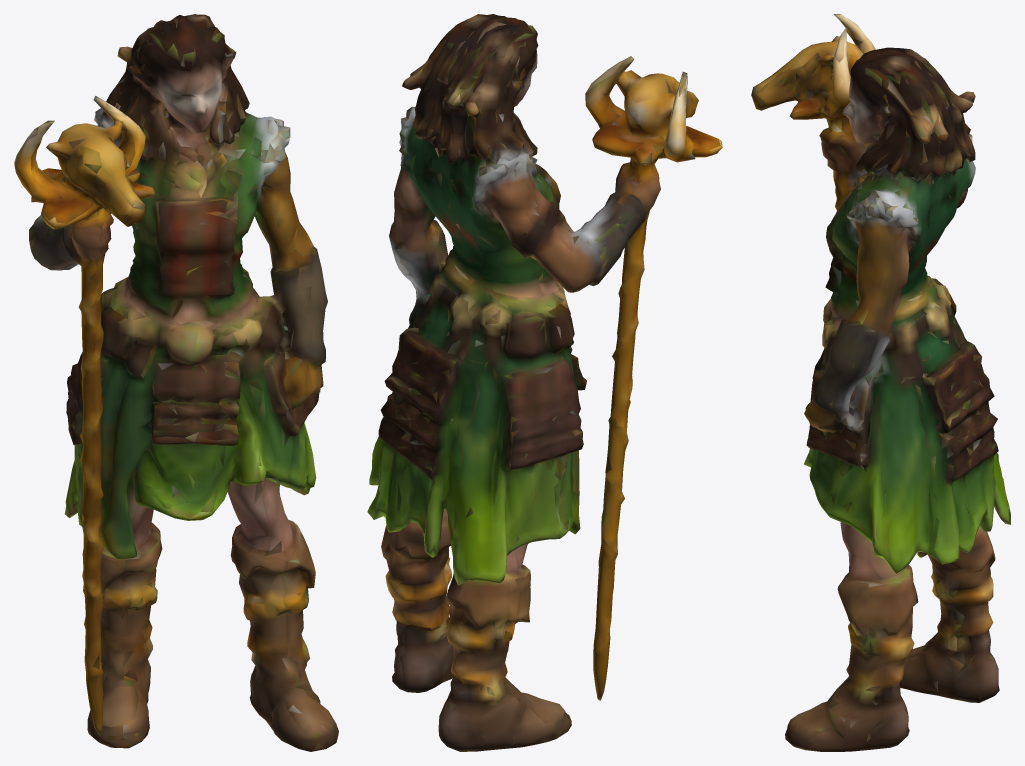
The model's file is Nketiah_final.glb.
The picture shows the model from 3 angles, left to right: view 1: azimuth 30°, elevation 25°; view 2: azimuth 150°, elevation 25°; view 3: azimuth 270°, elevation 25°; orthographic projection. The views are drawn at different scales.
Visible parts, largest first — view 1: Mesh1.0; view 2: Mesh1.0; view 3: Mesh1.0.
Part boxes in pixels (x1=…): Mesh1.0: x1=14, y1=14, x2=338, y2=751; Mesh1.0: x1=367, y1=14, x2=722, y2=751; Mesh1.0: x1=751, y1=14, x2=1010, y2=751.
Bounding box in the file's own units: 0.8259 × 1.8 × 0.6506.
1 material, 1 textured.
